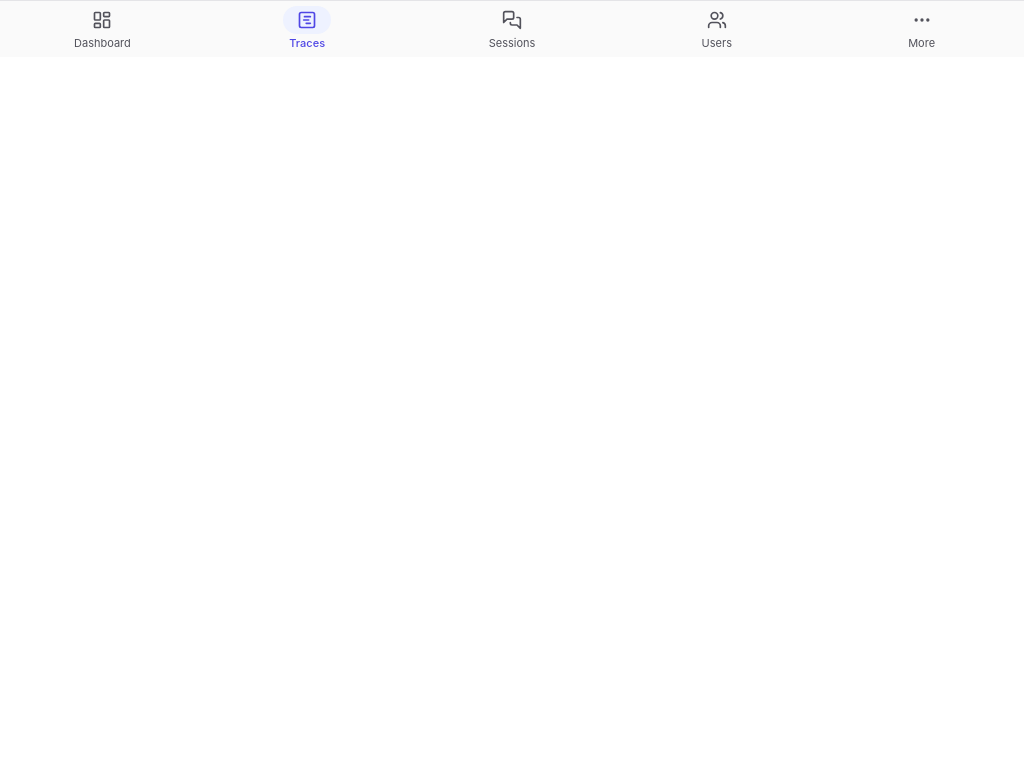
Test case: on a phone › closes the sheet on Escape and hands focus back to More
Click the button "More": [922, 29] box [819, 1, 1023, 57]
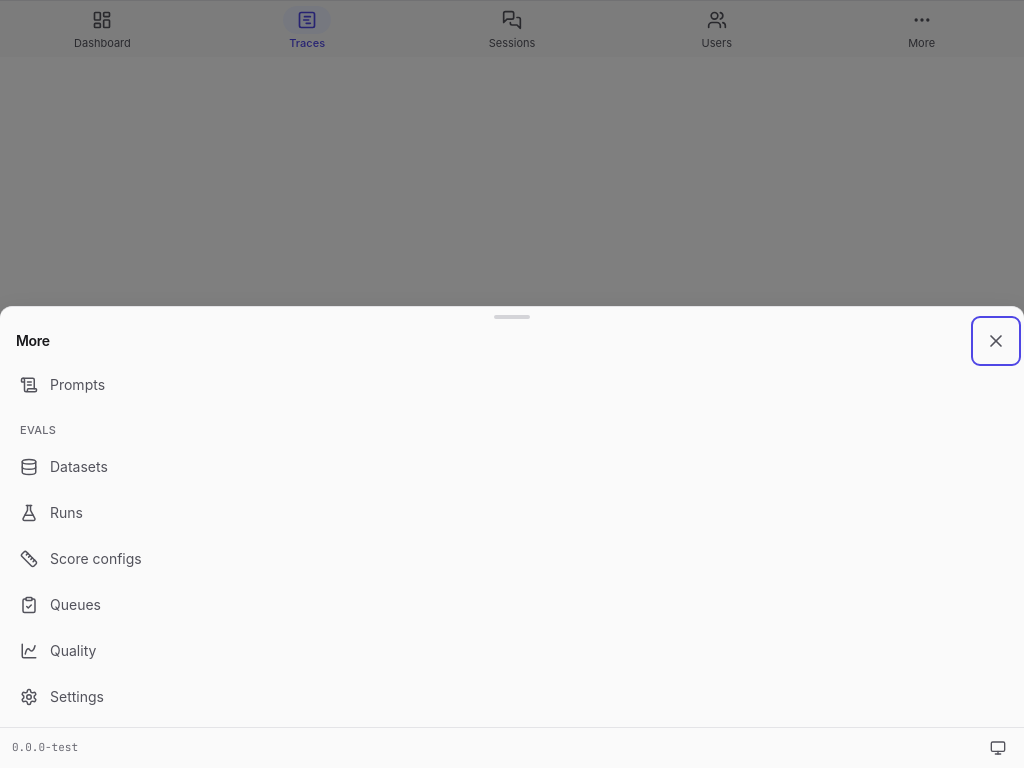
expect the dialog "More" is shown: met
Press Escape
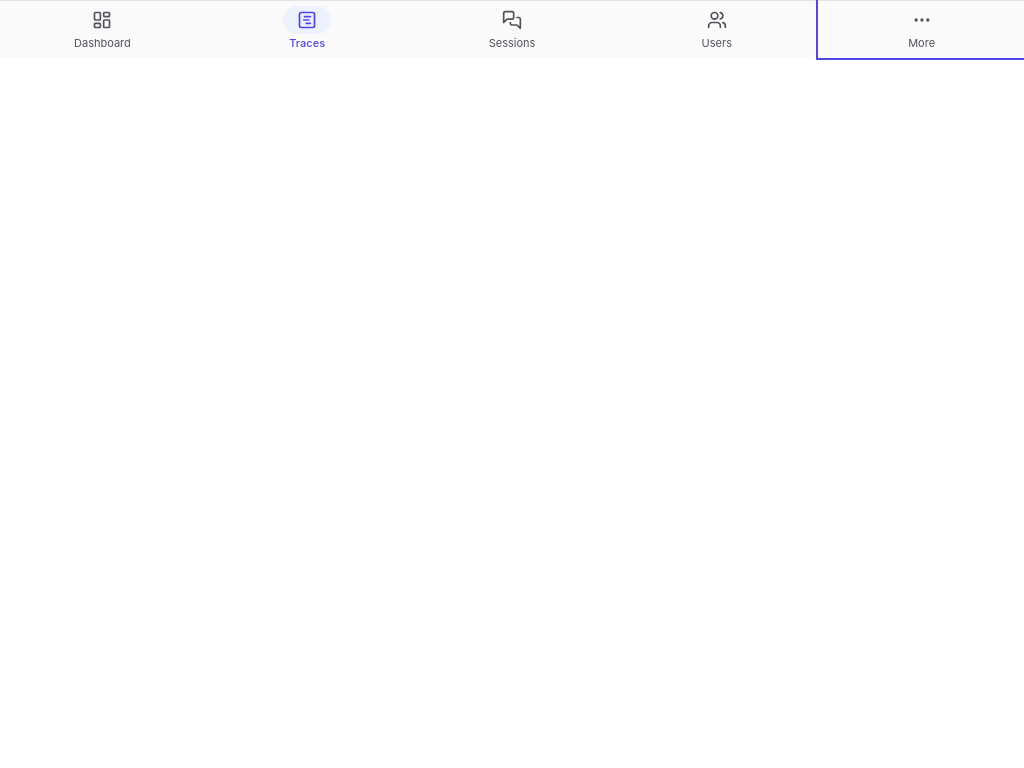
expect the dialog is gone: met
